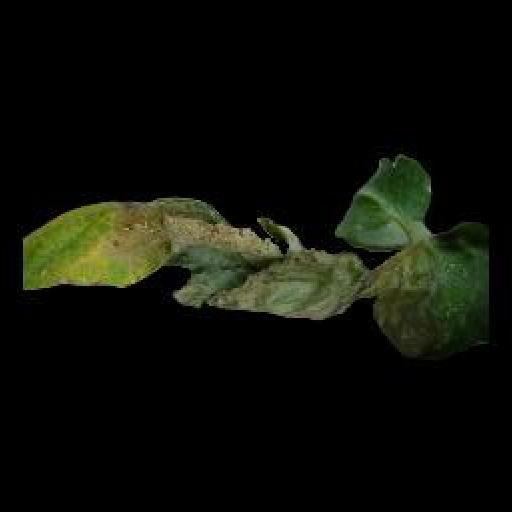disease_tomato: (18, 150, 494, 362)
